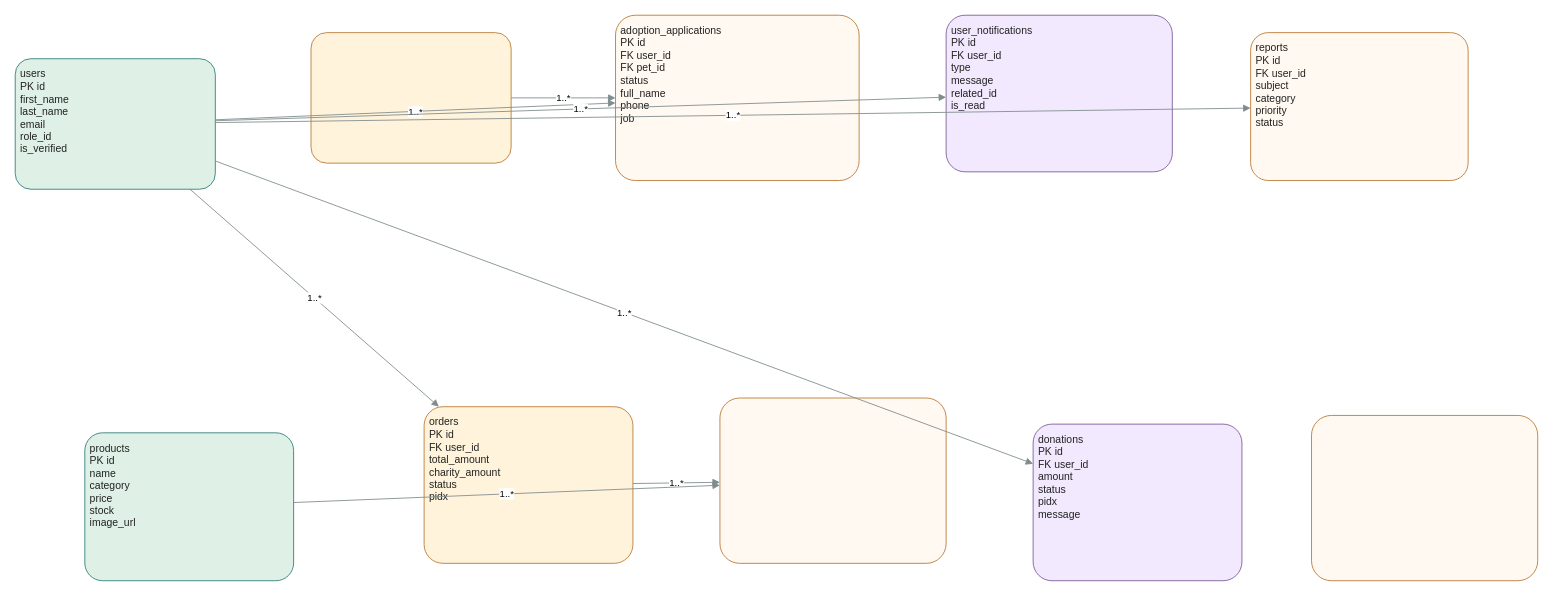
Some shapes in this 1553 by 596 pixel diagram are drawn without their labels. The shapes that lost their labels are listed below. From the top down, each one's centre as x and y in pixels, then its label:
(410,97): pets PK id name species breed health_status image_url
(832,480): order_items PK id FK order_id FK product_id quantity price_at_purchase
(1424,498): charity_posts PK id FK admin_id title content amount_spent image_url
